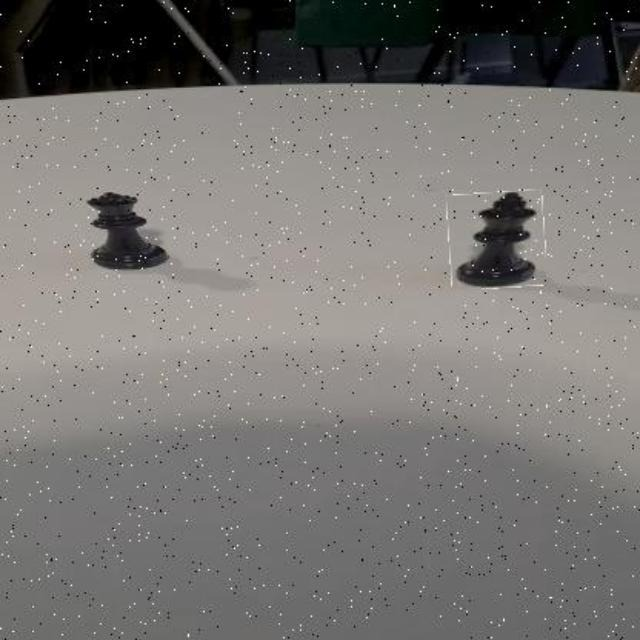black-king: (449, 191, 547, 289)
black-queen: (83, 191, 169, 271)
